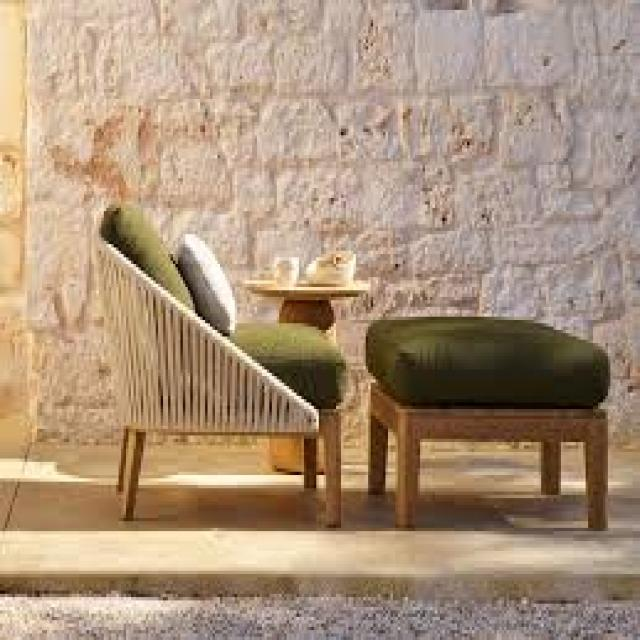chair: (73, 159, 366, 559)
